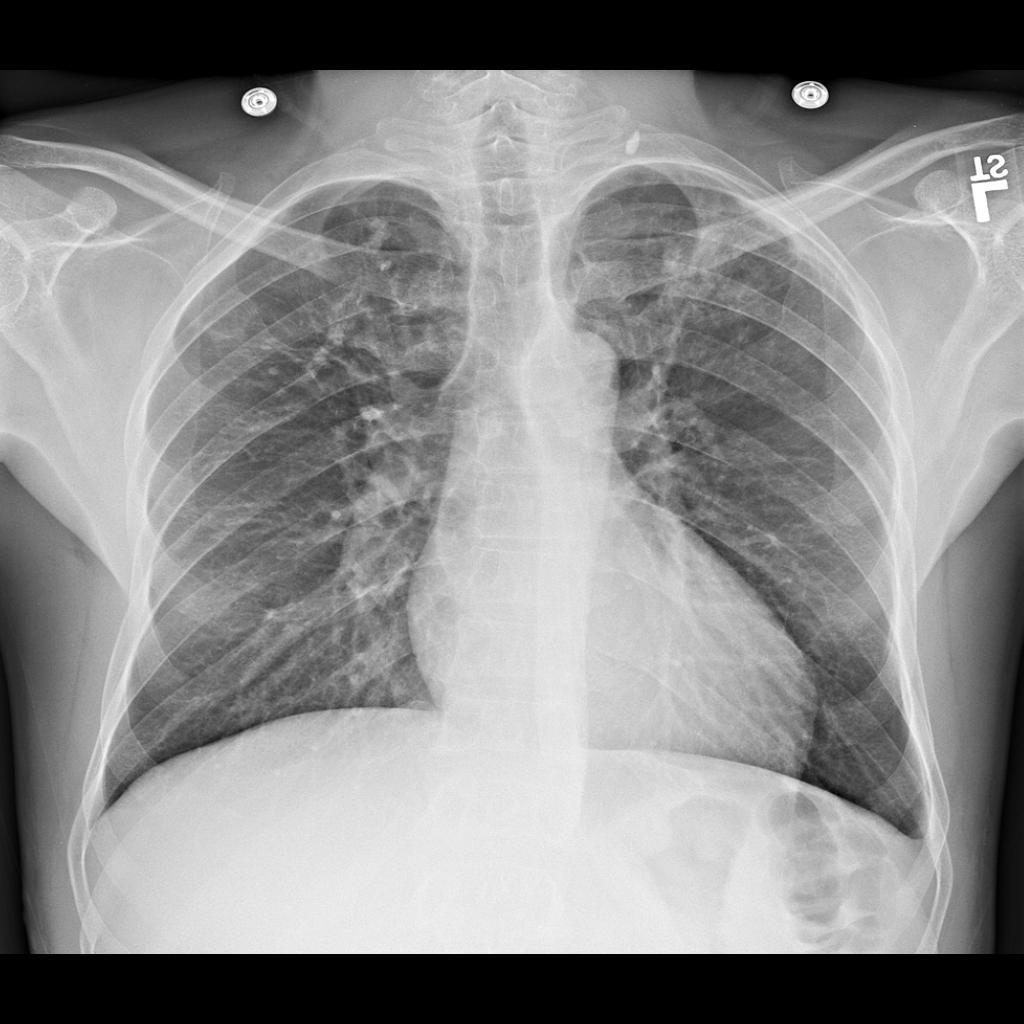Nodule: (654, 238, 710, 298)
